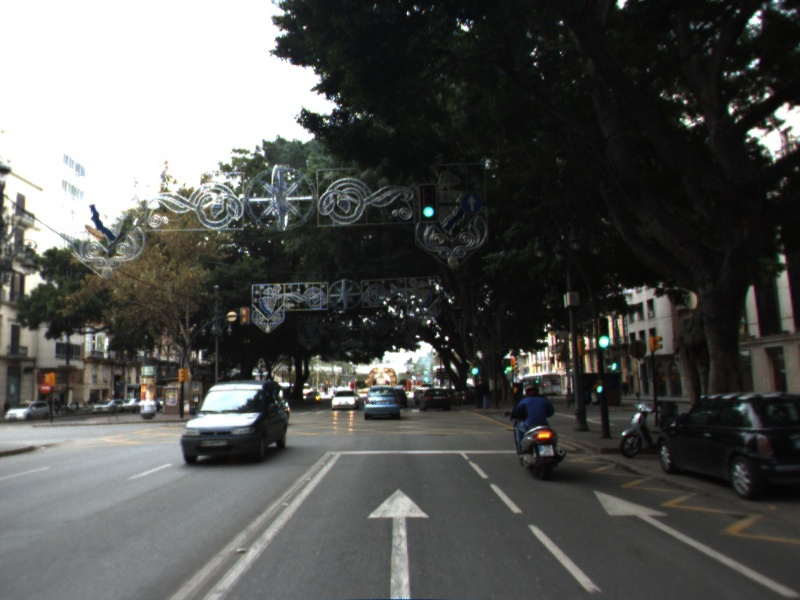STRAIGHT: (589, 486, 800, 598), (363, 484, 433, 600)
